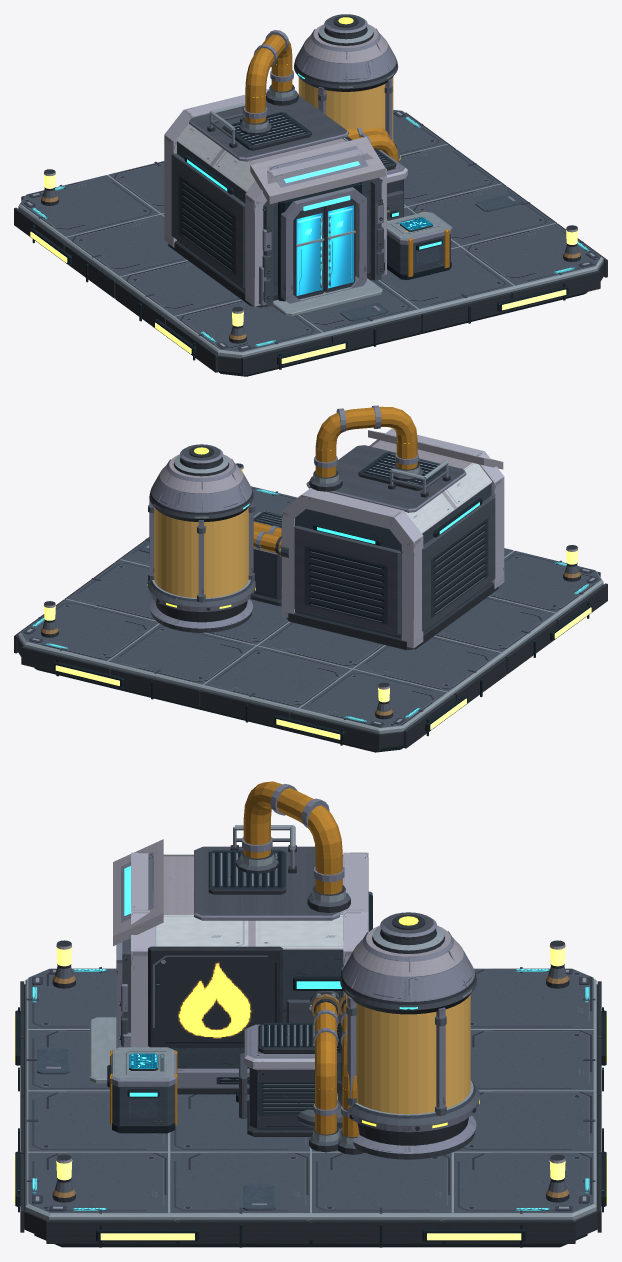
File: RF01_RefineriaBasica.fbx
The picture shows the model from 3 angles, top to bottom: view 1: azimuth 30°, elevation 25°; view 2: azimuth 150°, elevation 25°; view 3: azimuth 270°, elevation 25°; orthographic projection. The views are drawn at different scales.
Parts seen in each view (by area): view 1: Estructura_1, CristalYRefineria_1; view 2: Estructura_1, CristalYRefineria_1; view 3: Estructura_1, CristalYRefineria_1.
Boxes of the visible parts, x1,y1,x2,y2 form: Estructura_1: (14,14,607,376); CristalYRefineria_1: (298,77,393,140); Estructura_1: (14,405,607,752); CristalYRefineria_1: (154,507,248,598); Estructura_1: (14,781,607,1247); CristalYRefineria_1: (346,994,470,1114).
Bounding box in the file's own units: 5.66 × 3.16 × 5.54.
